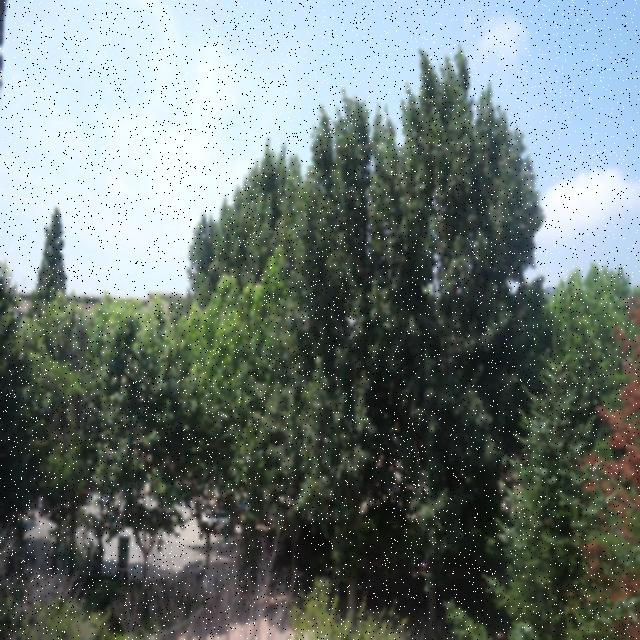UAV: (345, 317, 357, 327)
